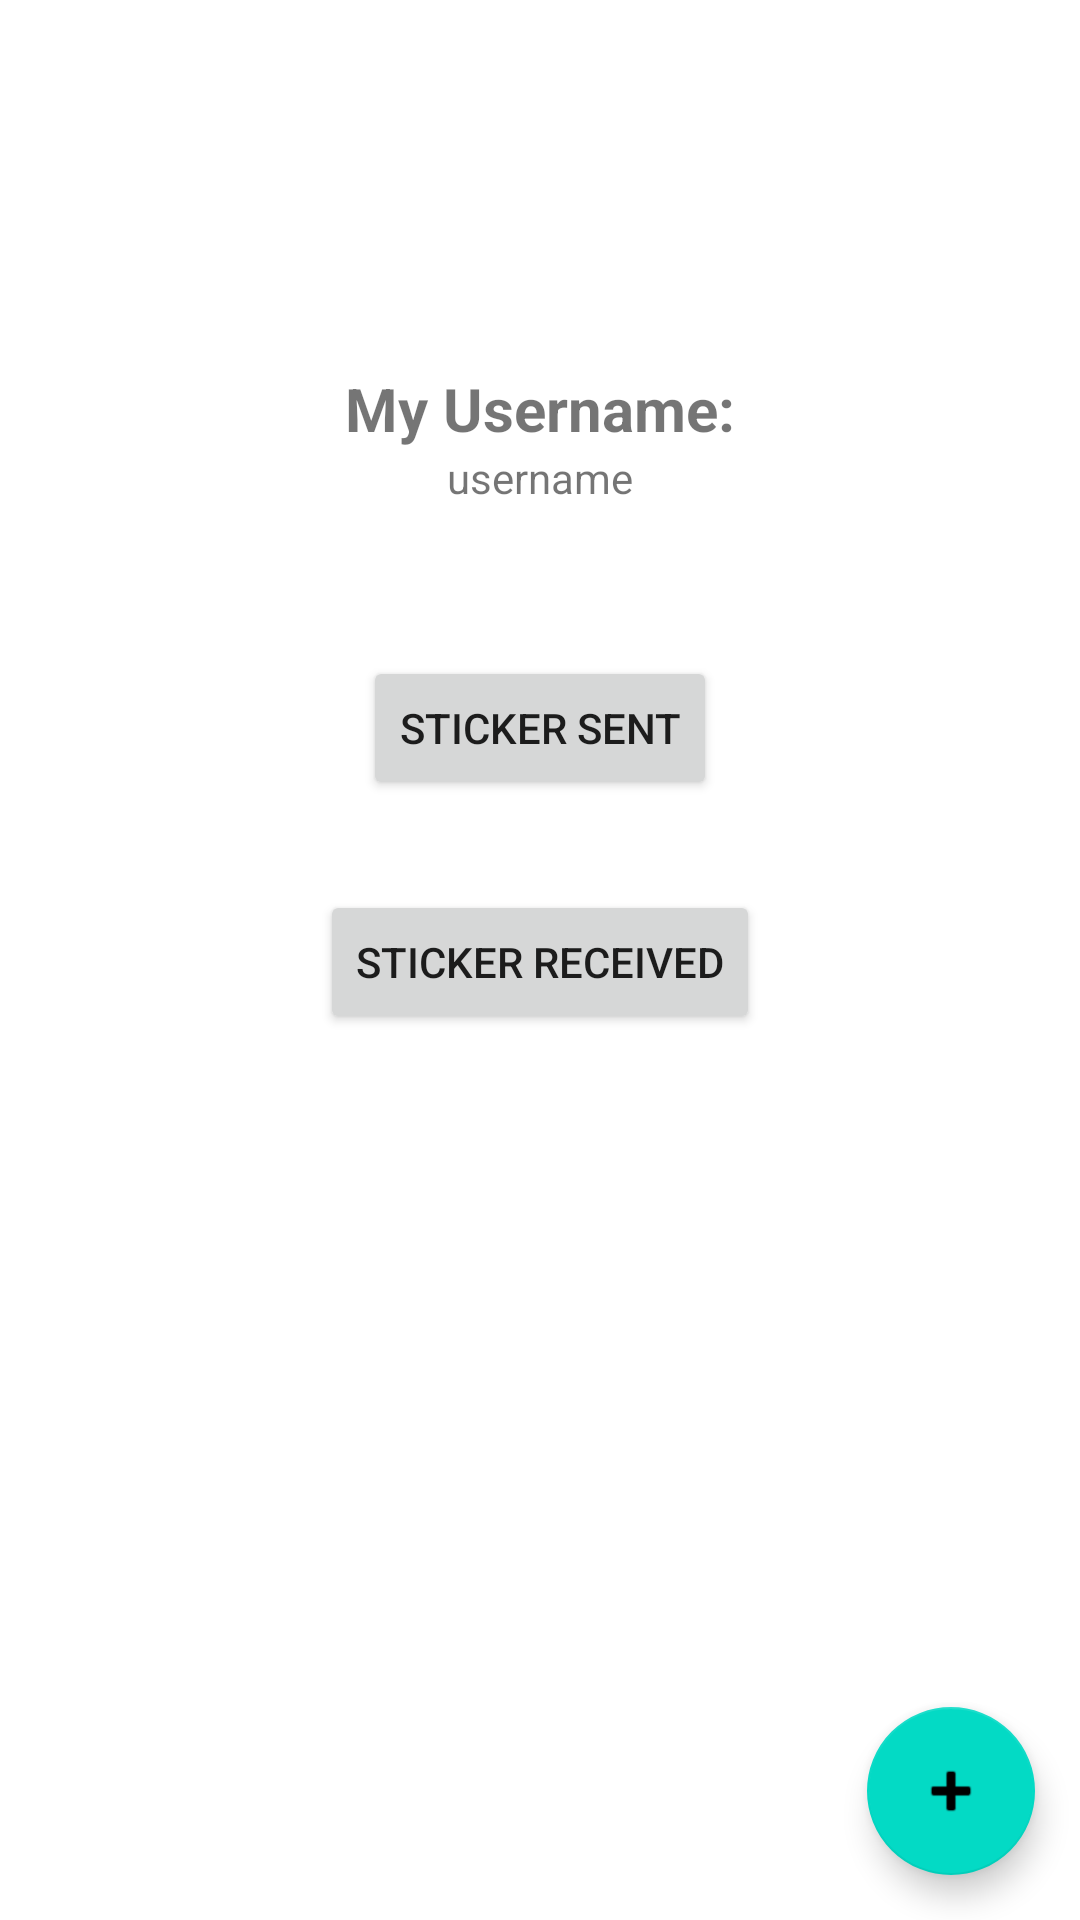

Named icons in this screenshot (1080×1920) and their centers, point (x, y):
add: point (951, 1791)
